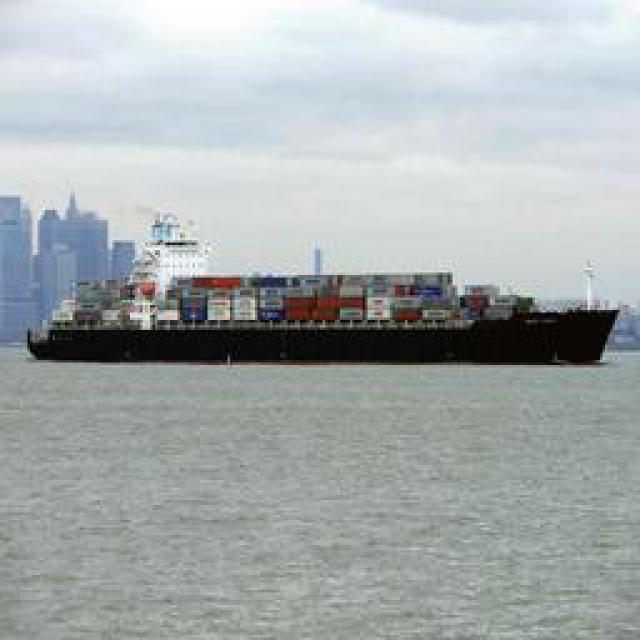Ship: (20, 221, 605, 369)
